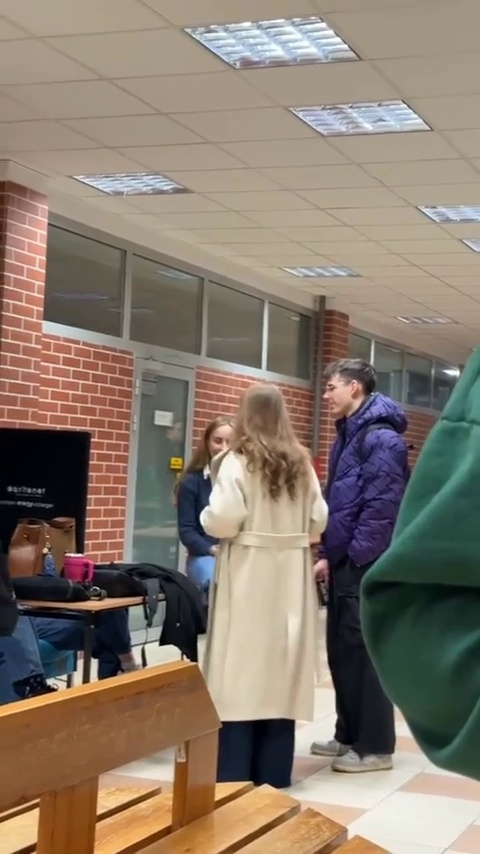no vest: (306, 350, 420, 731), (204, 376, 312, 733)
